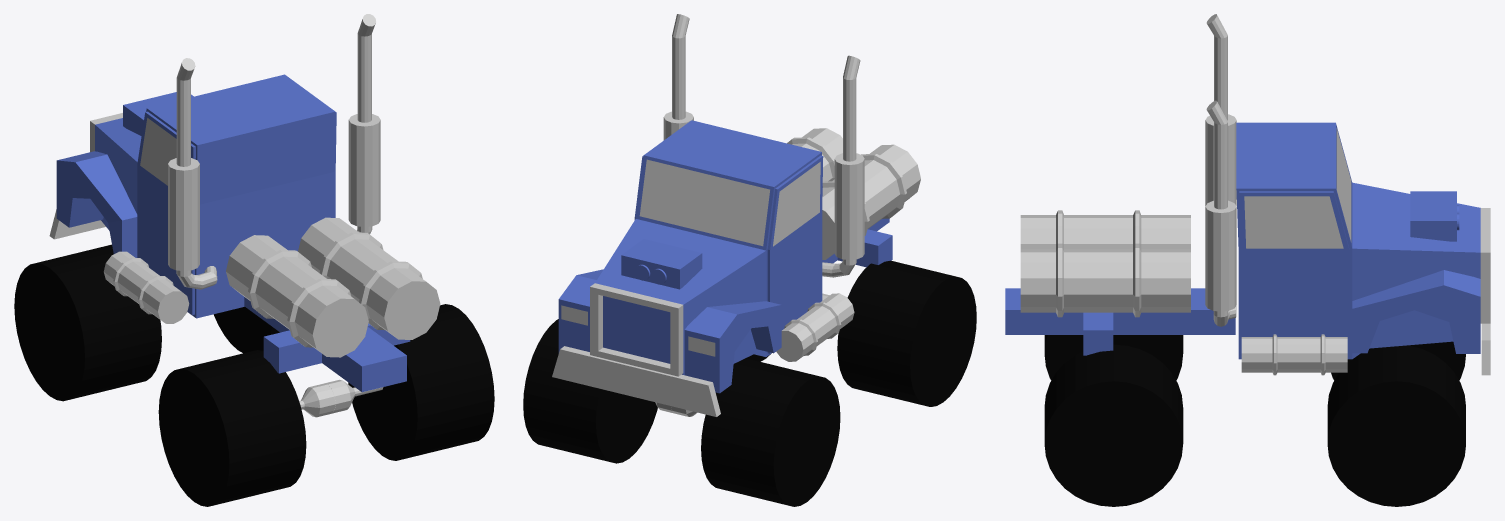
The model's file is camion.dae.
3 views of the same model, side by side, from view 1: azimuth 30°, elevation 25°; view 2: azimuth 150°, elevation 25°; view 3: azimuth 270°, elevation 25° (orthographic). The views are drawn at different scales.
Visible parts, largest first — view 1: Camion; view 2: Camion; view 3: Camion.
Boxes of the visible parts, left/top/right/bottom form: Camion: left=14, top=14, right=494, bottom=506; Camion: left=523, top=14, right=976, bottom=506; Camion: left=1005, top=14, right=1490, bottom=506.
Bounding box in the file's own units: 4.43 × 7.17 × 6.29.
